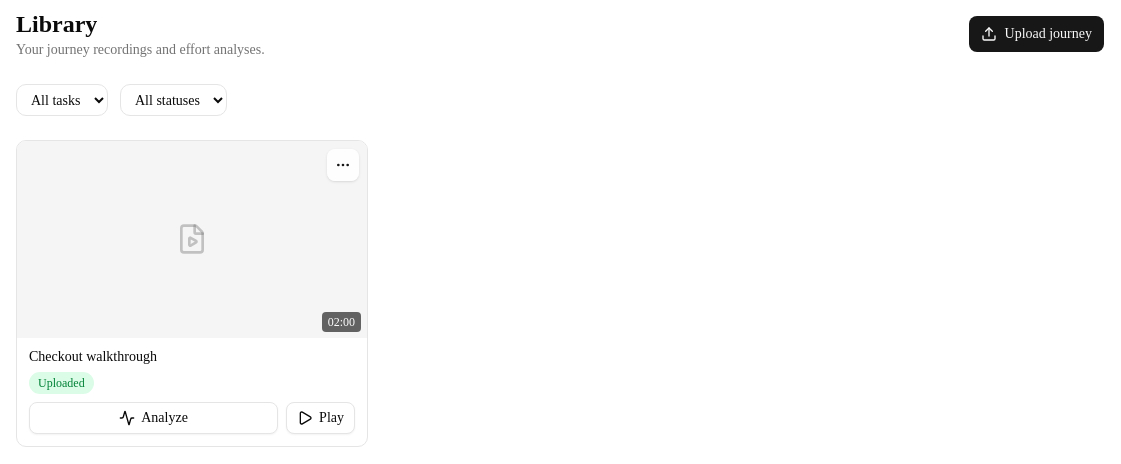
Test case: analyzing from the library › advances as the analysis progresses
Step 1. Click the button "Analyze" → (154, 418), box [29,402,278,434]
Wait 2500 ms
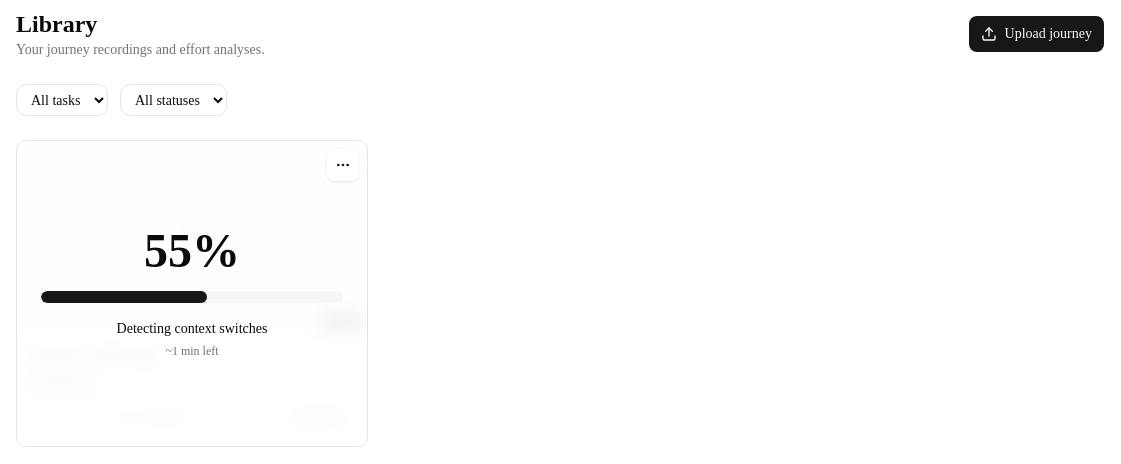
Expected: the text "55%" is shown, [144,227,240,275]
Expected: the text "Detecting context switches" is shown, [117,319,267,339]
